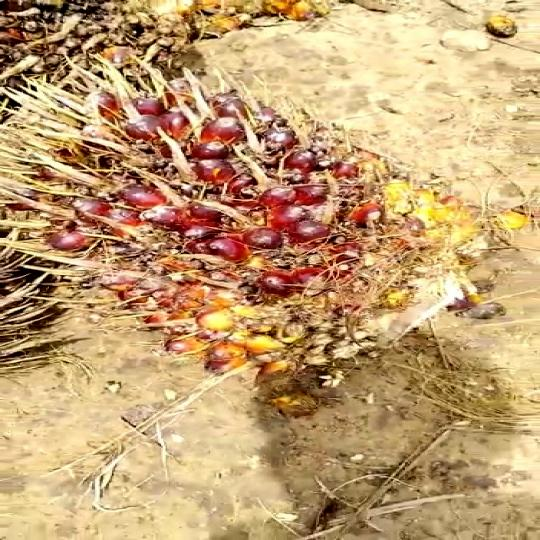masak: (26, 76, 512, 388)
